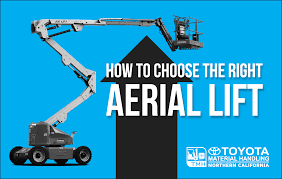Scissor Lift: (9, 14, 205, 166)
